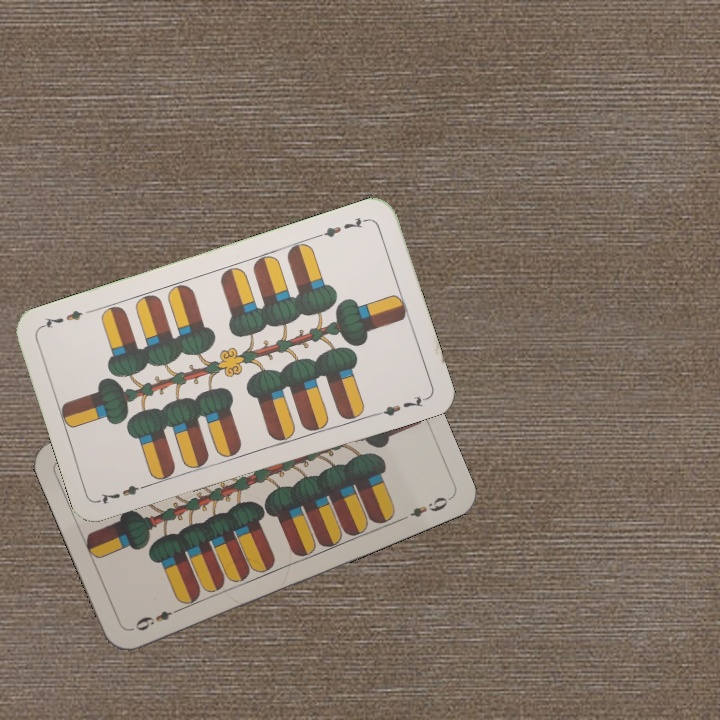E7: (314, 213, 371, 240), (96, 479, 153, 506)
E9: (131, 603, 184, 634)
